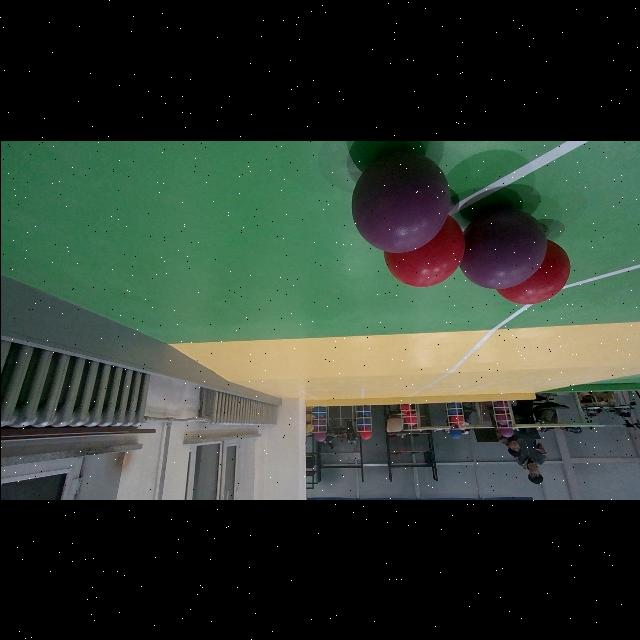P: (351, 150, 449, 252), (458, 195, 548, 291)
R: (382, 214, 464, 286), (494, 238, 570, 304)
